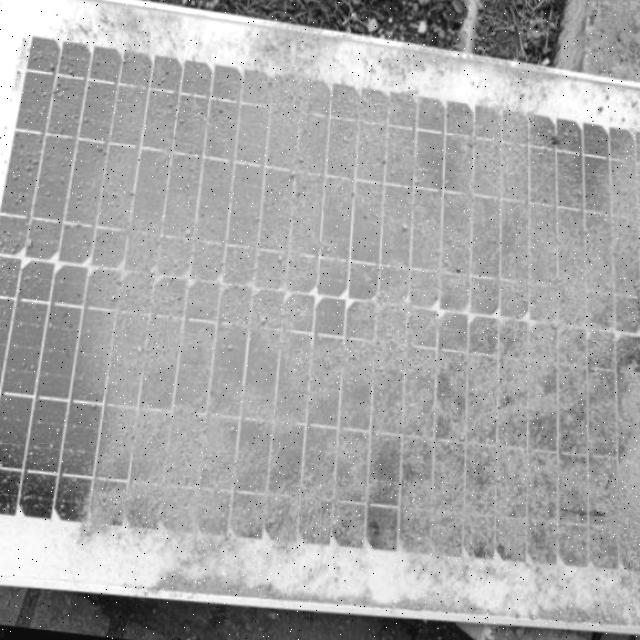Surface Contaminant: (0, 31, 640, 595)
